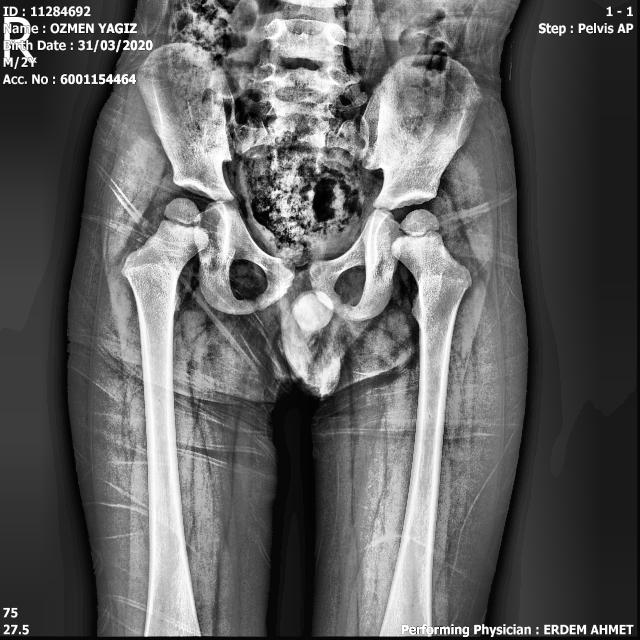Not_Fracture: (59, 0, 536, 640)
